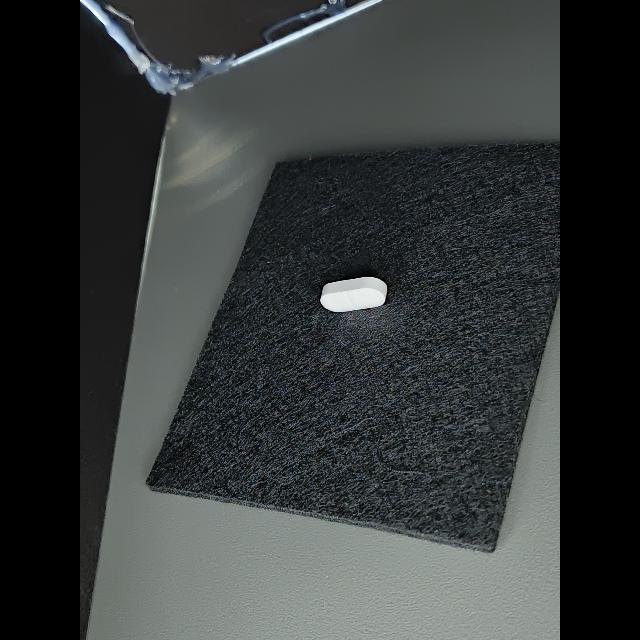Intact Pill: (320, 277, 387, 312)
